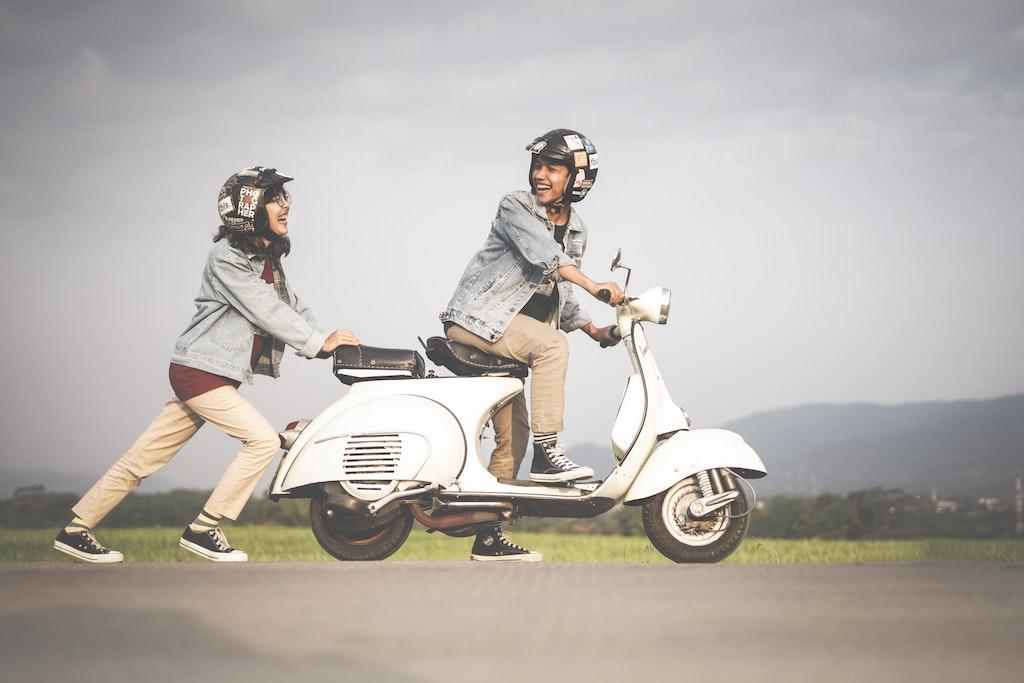helmet: (525, 127, 599, 215), (217, 165, 295, 244)
